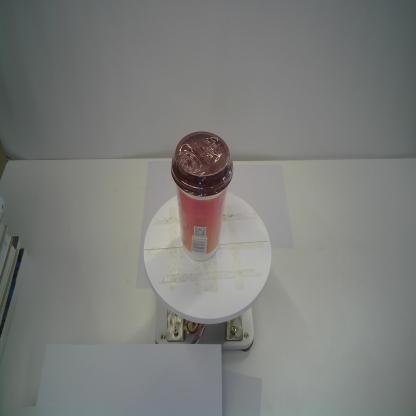Instant Drink: (170, 130, 234, 262)
